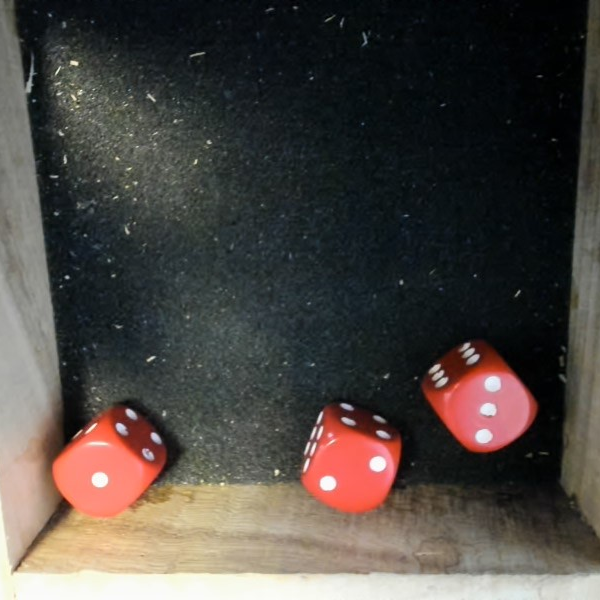red_die_pip1: (36, 390, 185, 538)
red_die_pip2: (286, 384, 411, 517)
red_die_pip3: (406, 323, 549, 472)
